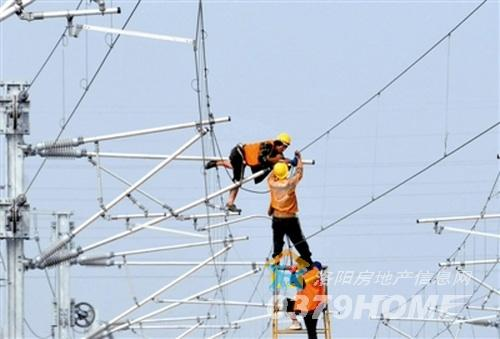boots: (288, 319, 302, 330), (226, 202, 241, 211), (205, 160, 217, 169)
gloves: (290, 151, 301, 167)
hard-hat: (273, 162, 289, 180), (275, 132, 292, 145)
person: (204, 132, 300, 211), (266, 150, 317, 270), (287, 261, 328, 339)
vest: (268, 171, 299, 221), (238, 139, 277, 175), (292, 273, 326, 314)
